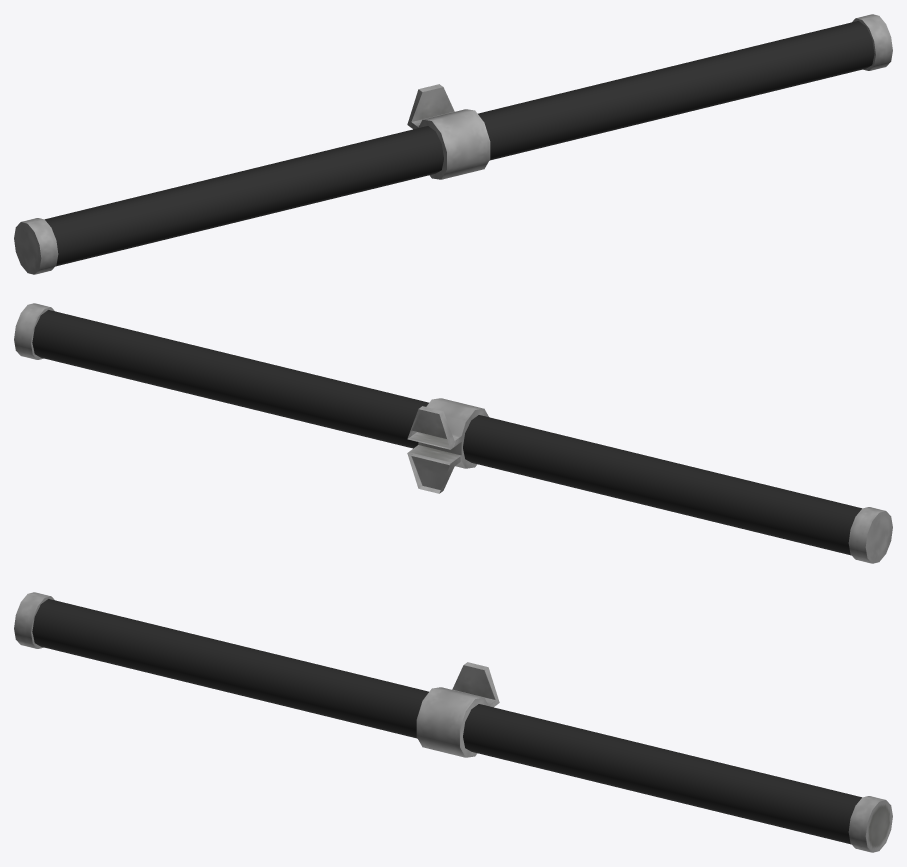
The model's file is Rigid_Conduit_1X_100cm.fbx.
The picture shows the model from 3 angles, top to bottom: view 1: azimuth 30°, elevation 25°; view 2: azimuth 150°, elevation 25°; view 3: azimuth 330°, elevation 25°; orthographic projection.
Parts seen in each view (by area): view 1: Rigid_Conduit_1X_100cm; view 2: Rigid_Conduit_1X_100cm; view 3: Rigid_Conduit_1X_100cm.
Boxes of the visible parts, x1,y1,x2,y2 form: Rigid_Conduit_1X_100cm: (14, 14, 892, 274); Rigid_Conduit_1X_100cm: (14, 303, 892, 563); Rigid_Conduit_1X_100cm: (14, 592, 892, 852).
Size of the model in its own units: 1 by 0.0894 by 0.0806.
